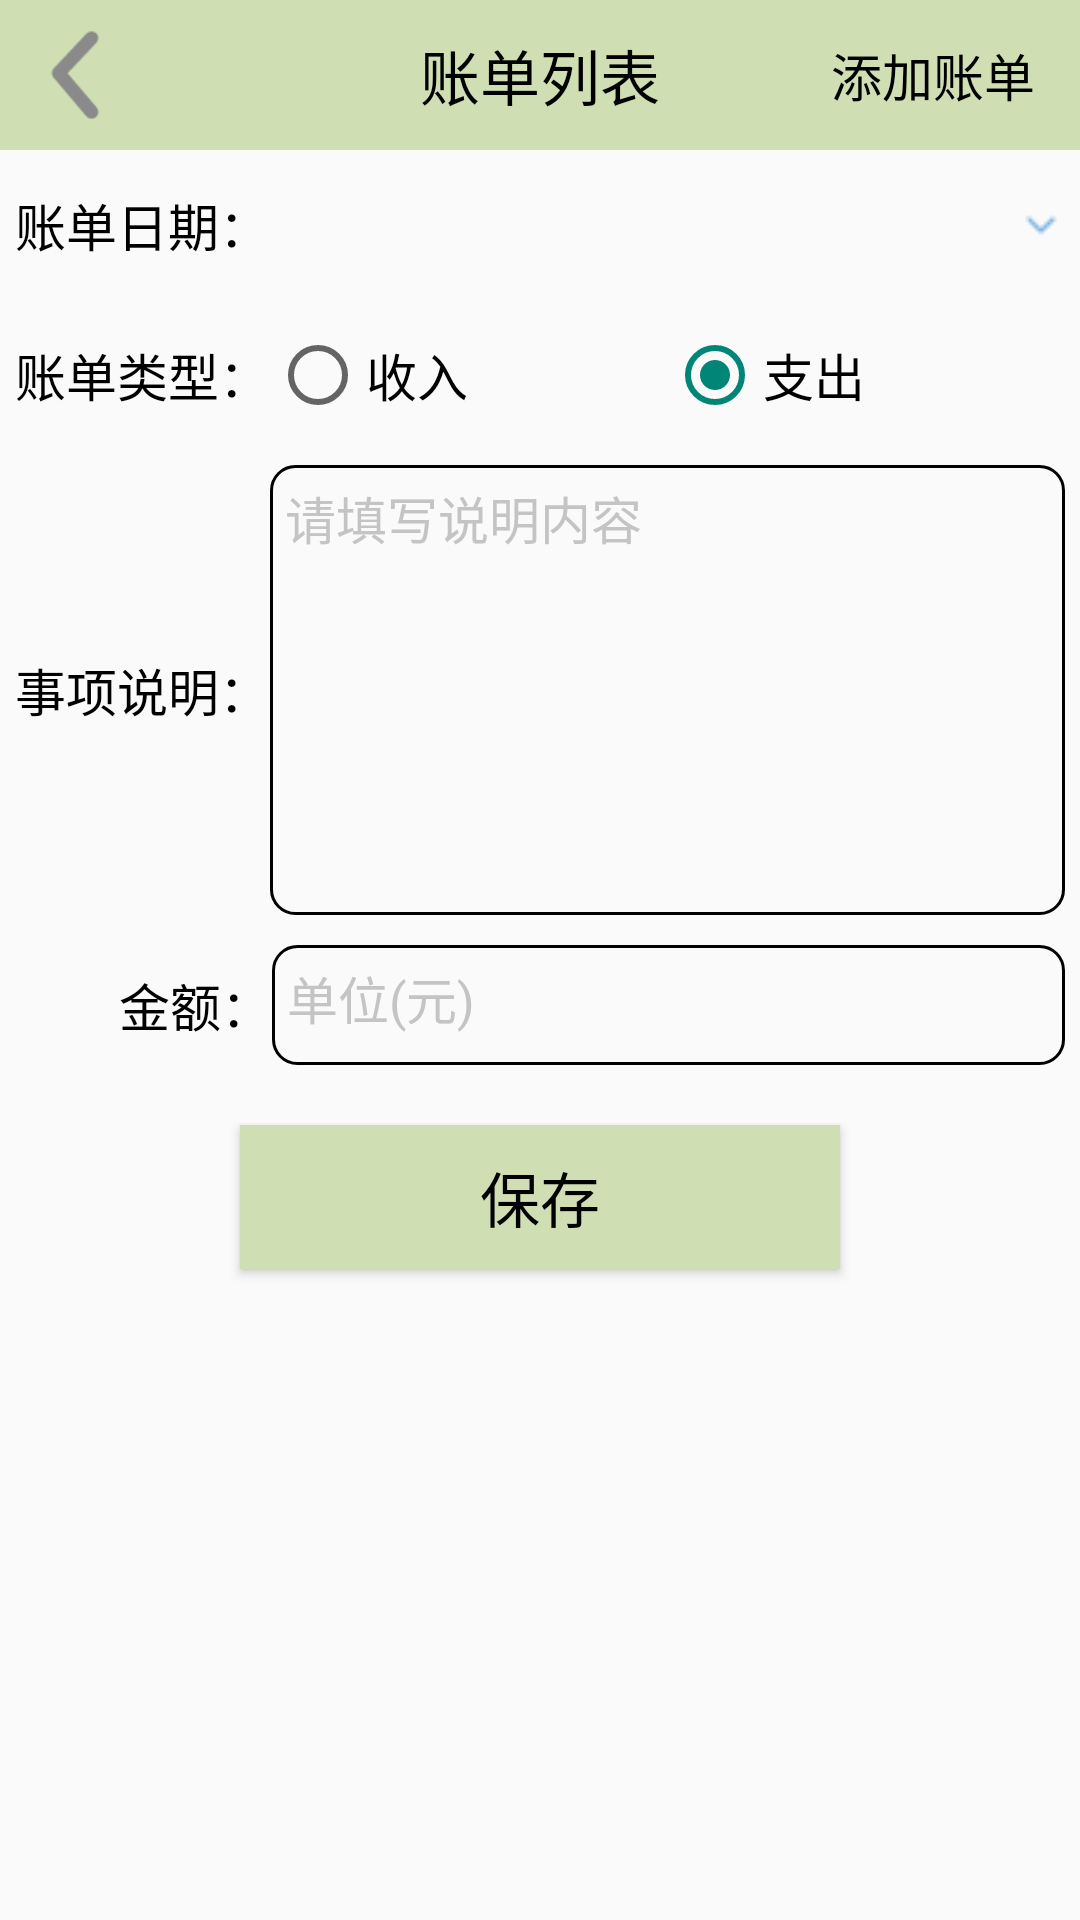

Locate icon controls on the screen. Image size 1080x1920, boxes as (x1, y1, x2, y2).
back: (51, 31, 99, 119)
